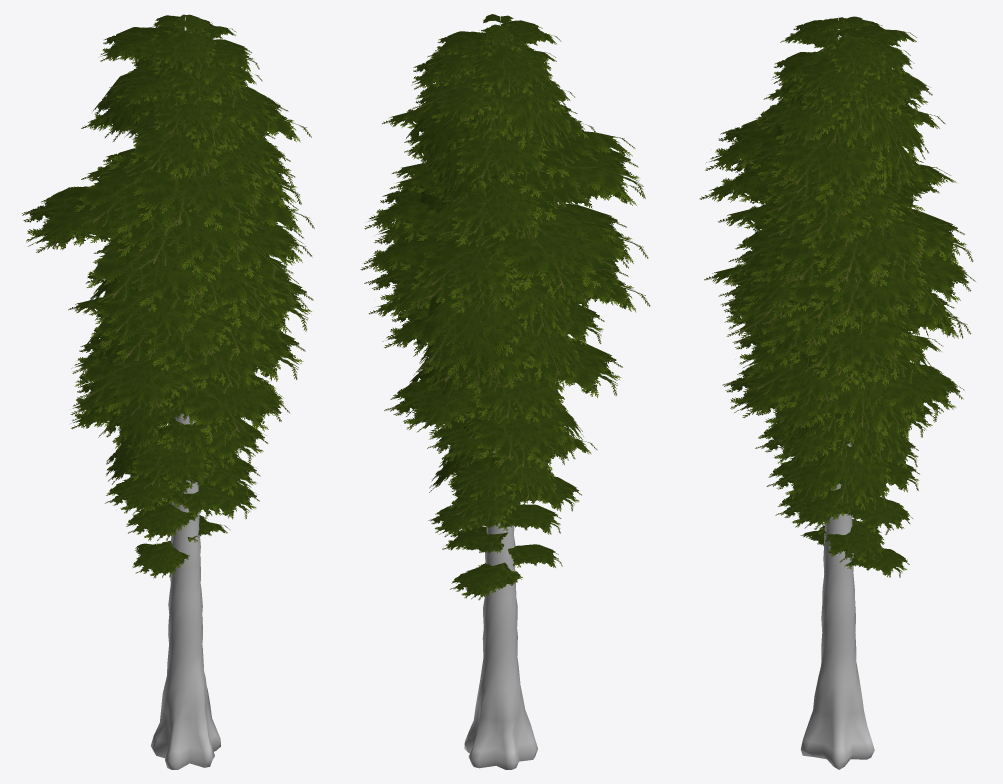
File: TreeBig003.fbx
The picture shows the model from 3 angles, left to right: view 1: azimuth 30°, elevation 25°; view 2: azimuth 150°, elevation 25°; view 3: azimuth 270°, elevation 25°; orthographic projection.
Visible parts, largest first — view 1: TreeBig003_LOD0; view 2: TreeBig003_LOD0; view 3: TreeBig003_LOD0.
Part boxes in pixels (x1,y1,x2,y2): TreeBig003_LOD0: [22, 14, 314, 769]; TreeBig003_LOD0: [360, 14, 650, 769]; TreeBig003_LOD0: [699, 16, 975, 769].
Bounding box in the file's own units: 1517 × 4002 × 1472.
